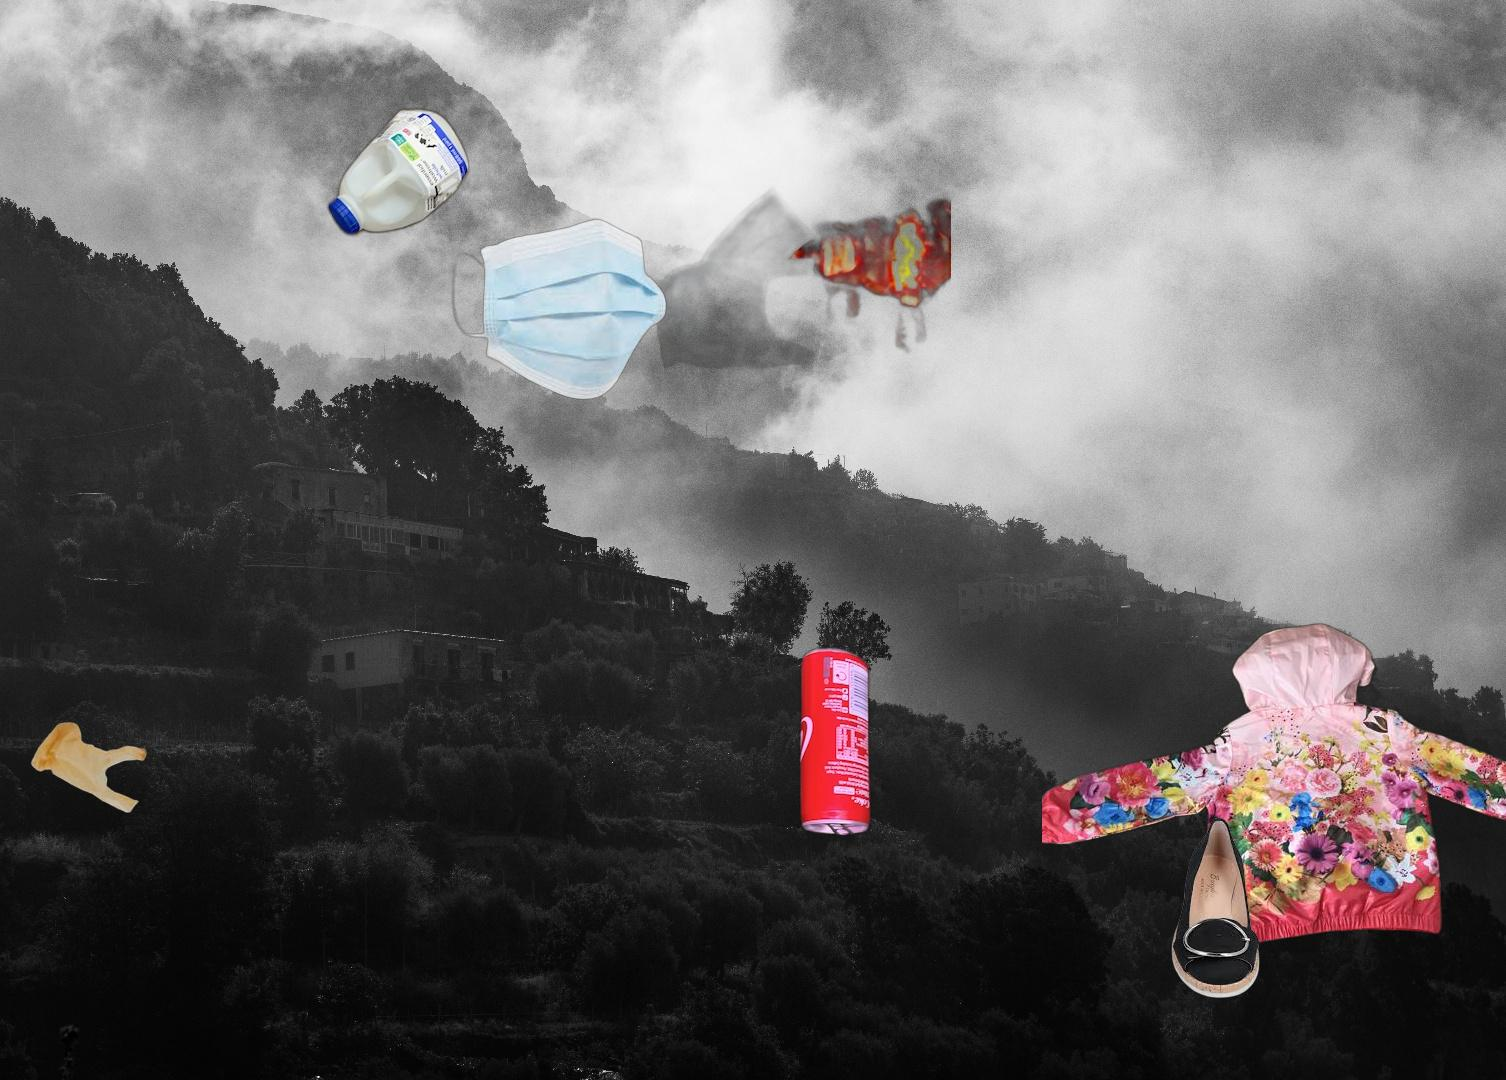clothes: (1042, 619, 1506, 953)
metal-cans: (794, 642, 875, 842)
plastic-bag: (651, 176, 951, 435), (28, 719, 151, 814)
plastic-bottles: (322, 102, 474, 247)
shoes: (1170, 815, 1262, 1001)
trash: (447, 217, 669, 402)
trashbox-cardboard: (831, 1078, 1346, 1080)
